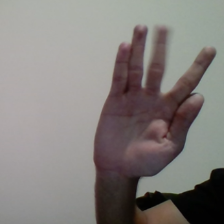left: (89, 18, 219, 181)
